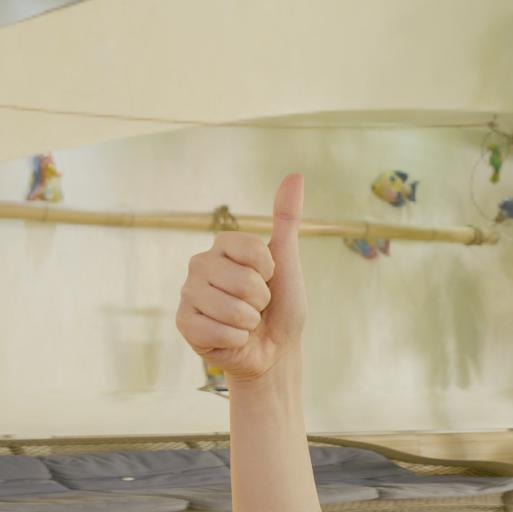thumbs-up: (175, 166, 316, 388)
